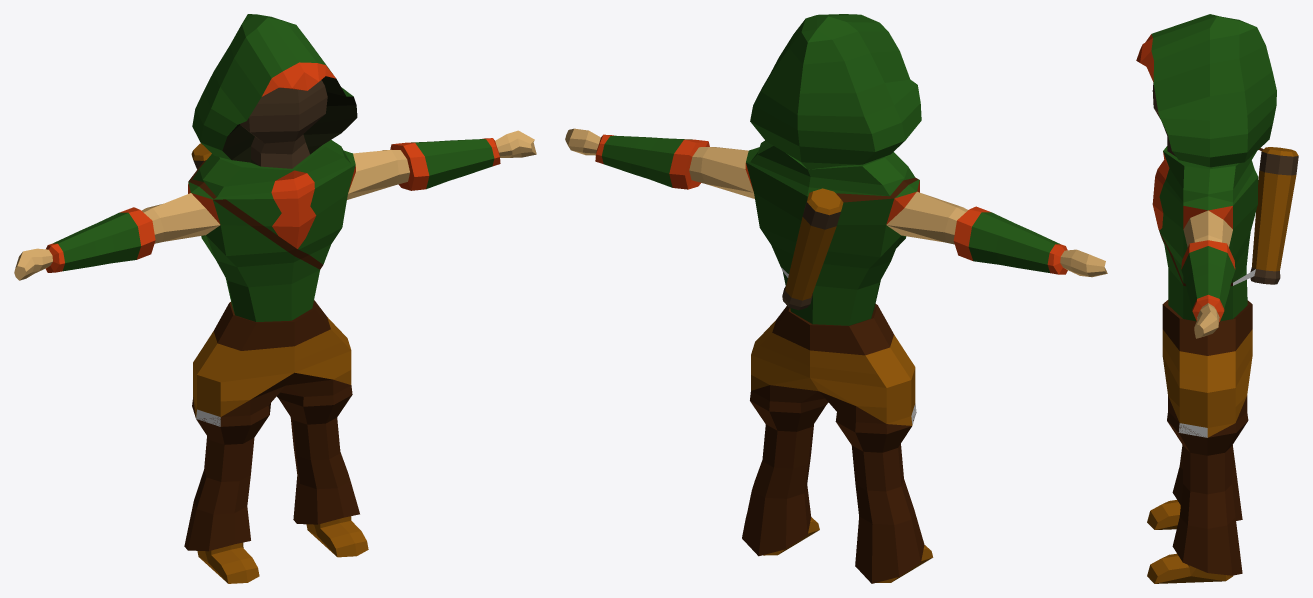
Rendered from ŁUCZNIK KOŁCZAN.fbx.
3 renders of one model, left to right at view 1: azimuth 30°, elevation 25°; view 2: azimuth 150°, elevation 25°; view 3: azimuth 270°, elevation 25°, orthographic. The views are drawn at different scales.
Visible parts, largest first — view 1: Walec; view 2: Walec; view 3: Walec.
Part boxes in pixels (left/top/right/bottom): Walec: left=14, top=14, right=536, bottom=583; Walec: left=565, top=14, right=1107, bottom=583; Walec: left=1136, top=14, right=1298, bottom=583.
Size of the model in its own units: 698 by 675 by 187.
